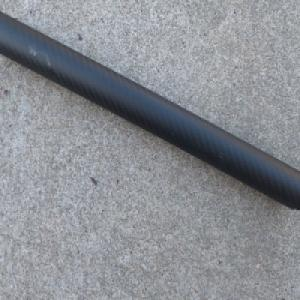LuggagePart: (0, 8, 300, 211)
